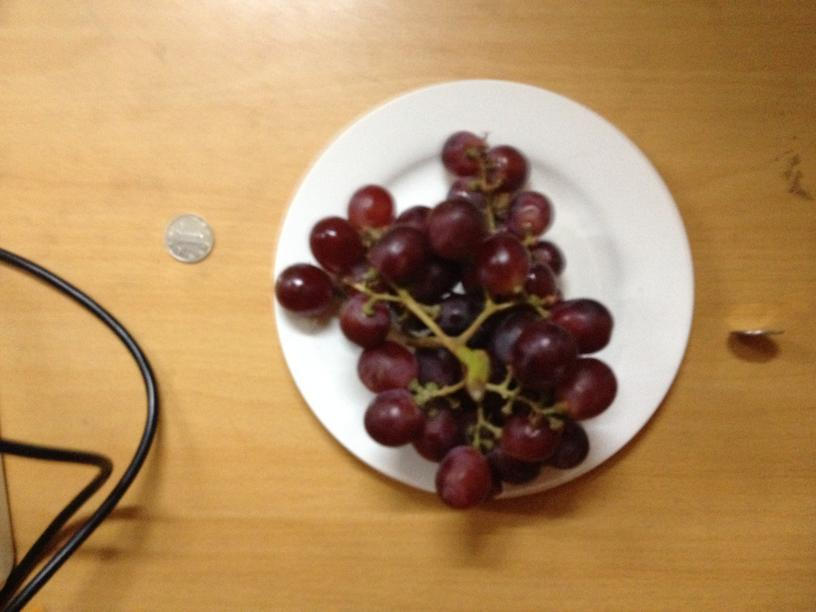coin: (166, 214, 213, 263)
grape: (275, 128, 618, 507)
